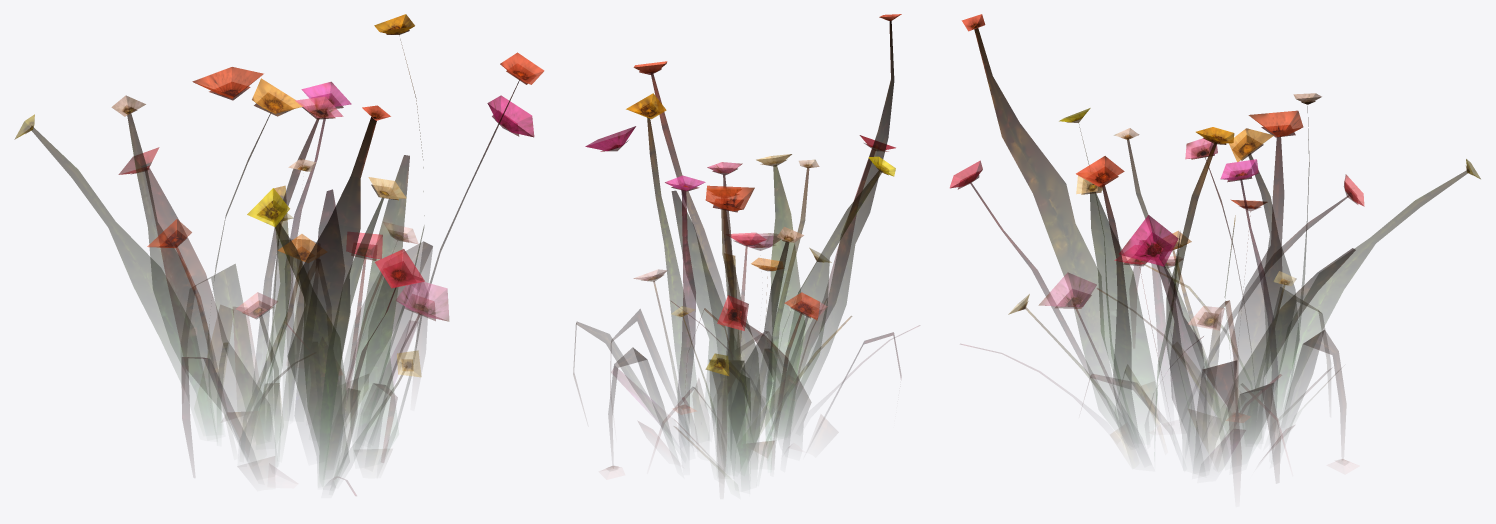
File: everlasting-transformed.glb
The picture shows the model from 3 angles, left to right: view 1: azimuth 30°, elevation 25°; view 2: azimuth 150°, elevation 25°; view 3: azimuth 270°, elevation 25°; orthographic projection. The views are drawn at different scales.
Visible parts, largest first — view 1: SM_ucvobbbia_VarA_LOD2; view 2: SM_ucvobbbia_VarA_LOD2; view 3: SM_ucvobbbia_VarA_LOD2.
Boxes of the visible parts, x1=… form: SM_ucvobbbia_VarA_LOD2: x1=14, y1=14, x2=544, y2=495; SM_ucvobbbia_VarA_LOD2: x1=573, y1=14, x2=919, y2=478; SM_ucvobbbia_VarA_LOD2: x1=950, y1=14, x2=1480, y2=472.
Bounding box in the file's own units: 0.5561 × 0.6926 × 0.7807.
Materials: 1 (1 with a texture image).
